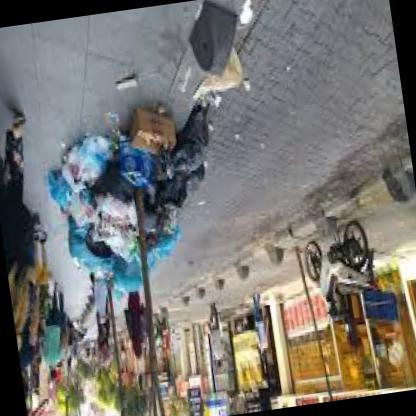Garbage: (37, 86, 138, 296), (181, 48, 256, 110), (164, 108, 228, 180), (88, 174, 137, 249), (60, 131, 122, 188), (112, 122, 154, 200), (66, 216, 110, 270), (145, 219, 188, 266), (154, 168, 196, 210), (110, 250, 144, 300), (37, 168, 76, 209), (230, 0, 263, 35), (108, 76, 138, 104)
